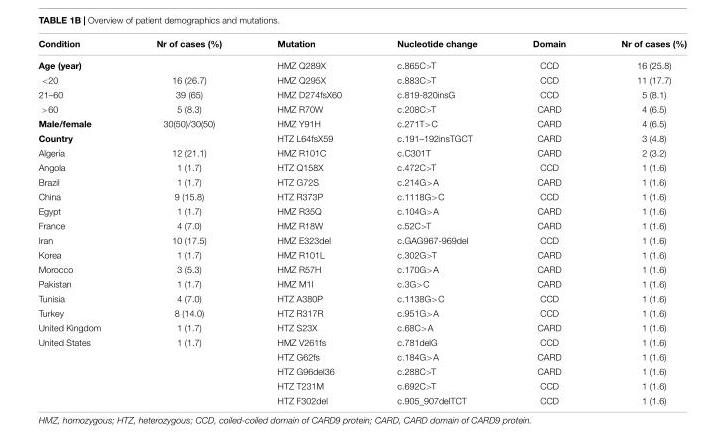table: (37, 37, 686, 405)
table column: (368, 37, 504, 405), (127, 37, 248, 405), (248, 37, 368, 405), (592, 37, 686, 405), (37, 37, 127, 405), (504, 37, 592, 405)
table column header: (37, 37, 686, 53)
table row: (37, 53, 686, 72), (37, 37, 686, 53), (37, 86, 686, 101), (37, 115, 686, 130), (37, 144, 686, 159), (37, 159, 686, 174), (37, 188, 686, 203), (37, 217, 686, 232), (37, 246, 686, 261), (37, 261, 686, 276), (37, 290, 686, 305), (37, 319, 686, 334), (37, 348, 686, 363), (37, 363, 686, 378), (37, 72, 686, 86), (37, 101, 686, 115), (37, 130, 686, 144), (37, 174, 686, 188), (37, 203, 686, 217), (37, 232, 686, 246), (37, 276, 686, 290), (37, 305, 686, 319), (37, 334, 686, 348), (37, 378, 686, 392), (37, 392, 686, 405)
table spanning cell: (37, 334, 127, 405)
